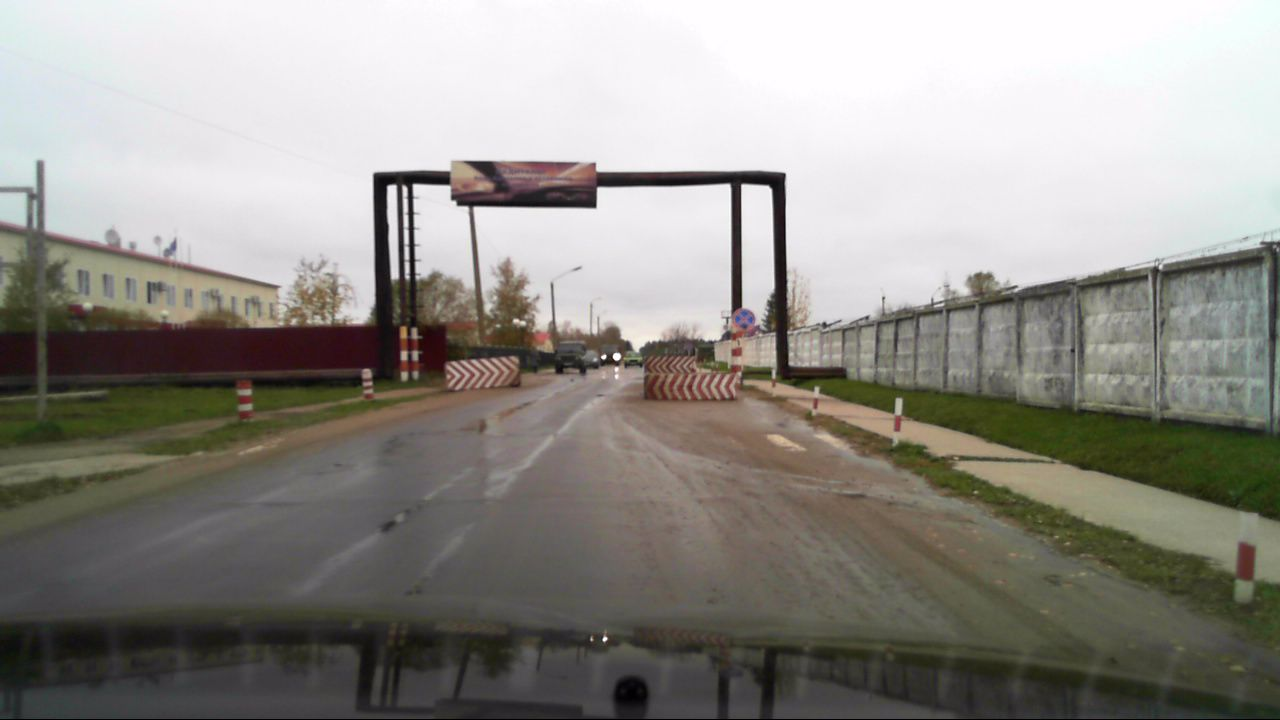No Parking: (731, 308, 755, 332)
